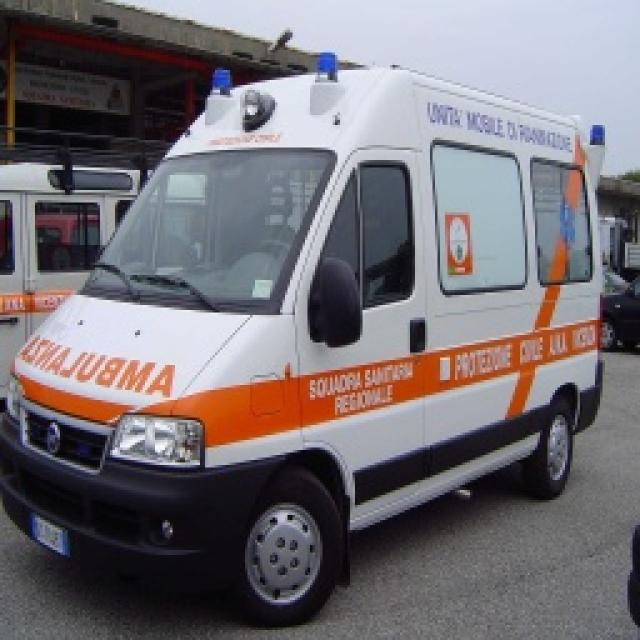emergency-vehicle: (20, 45, 628, 598)
